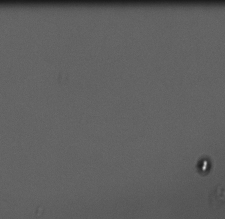Living Cell: (196, 156, 212, 175)
